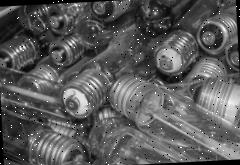lightbulb: (0, 0, 240, 165), (108, 71, 166, 127), (59, 67, 112, 119), (151, 27, 200, 76), (194, 3, 238, 55)
